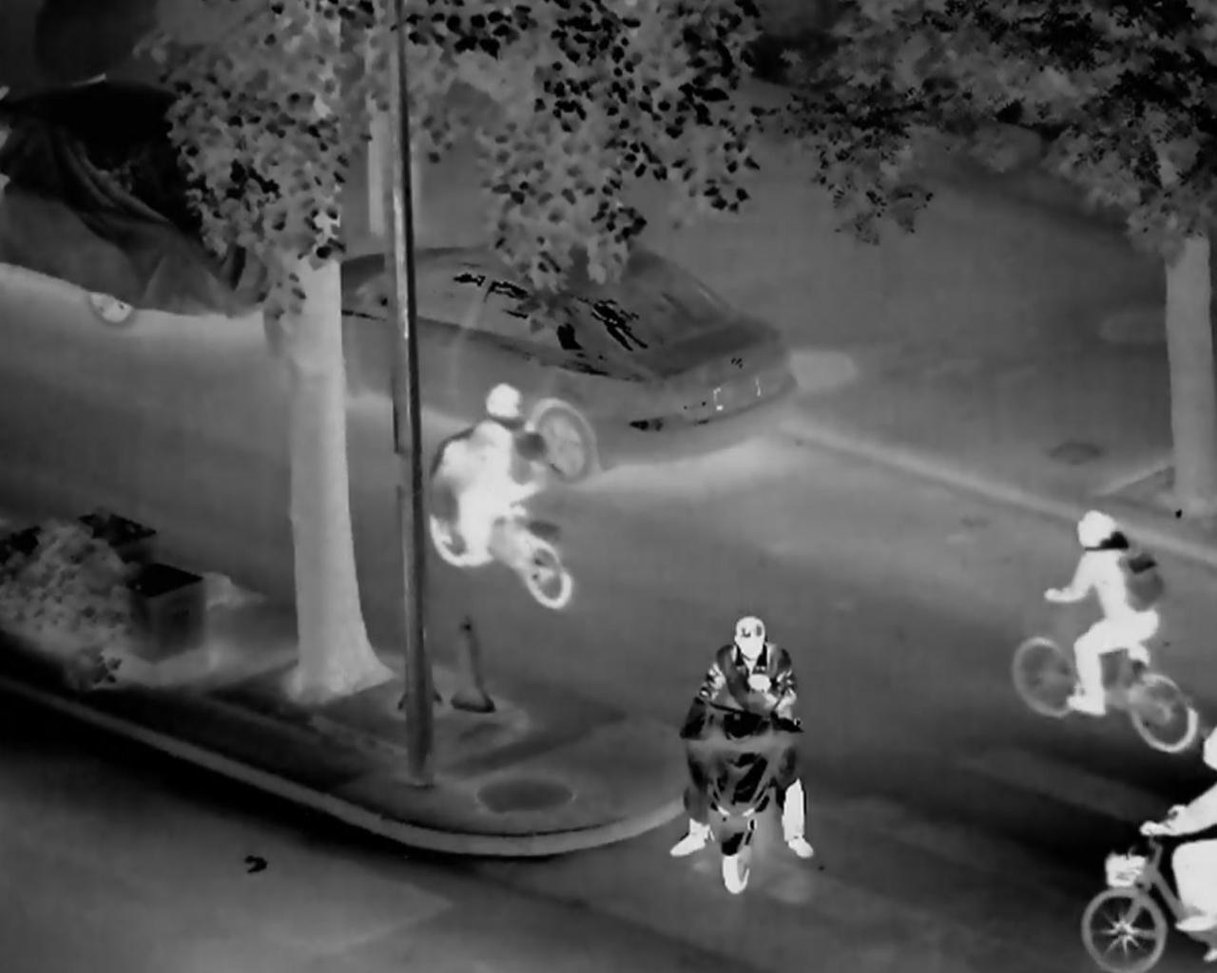person: (681, 593, 823, 886), (1038, 497, 1169, 732), (417, 372, 553, 597), (1139, 723, 1217, 941)
